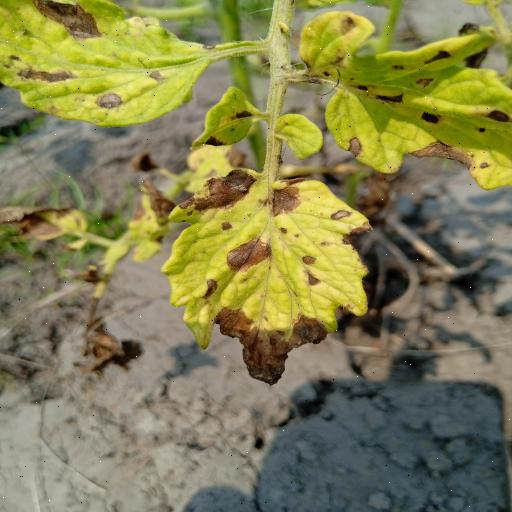Tomato_Brown_Spots: (158, 166, 379, 384), (294, 5, 512, 190), (0, 0, 216, 135)
